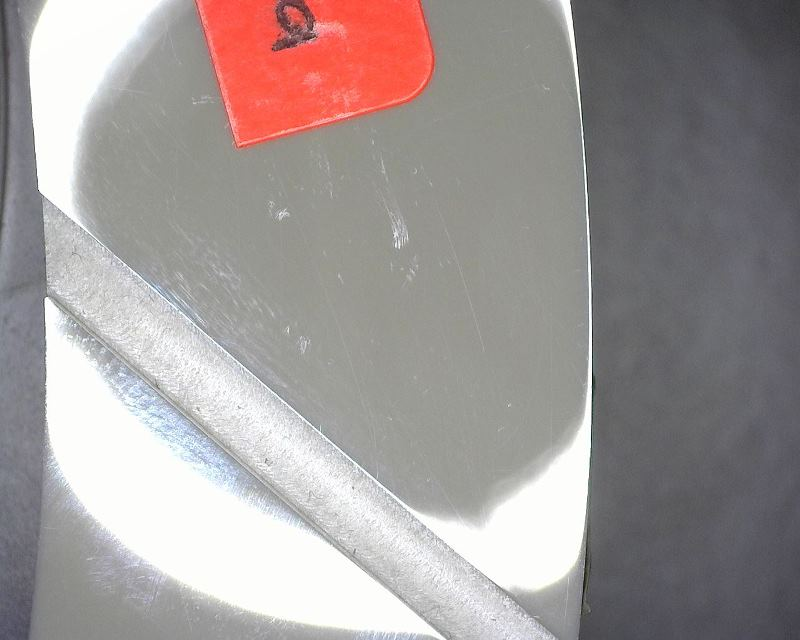scratch: (161, 209, 276, 375), (420, 157, 491, 359), (369, 137, 412, 252), (313, 148, 346, 202), (281, 317, 314, 357), (263, 196, 293, 224), (191, 88, 219, 107)
